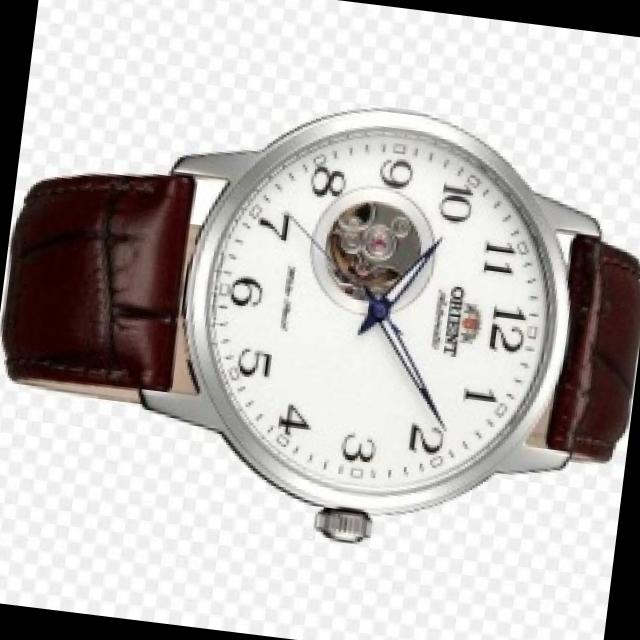saat: (0, 55, 640, 582)
